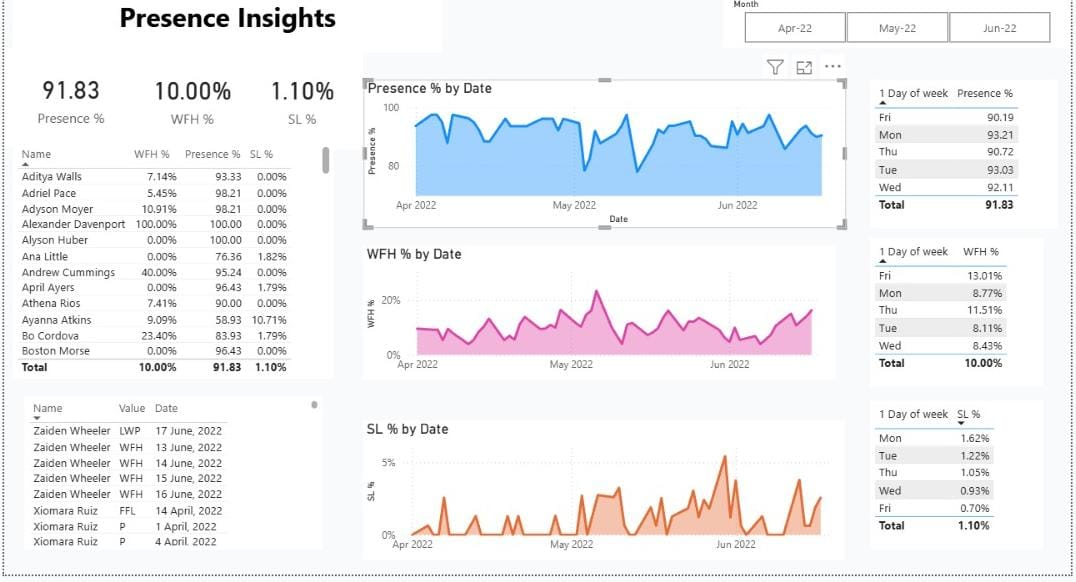

The dashboard page shown, as its layout file describes it:
{"tool":"powerbi","page":{"name":"Page 1","canvas":[1280,720],"ordinal":0},"visuals":[{"type":"card","fields":{"Values":["Measure Table.SL %"]},"box":[285.4,86.4,145.5,123.5],"z":0},{"type":"card","fields":{"Values":["Measure Table.Presence %"]},"box":[0,87.8,160.5,119.4],"z":1000},{"type":"slicer","fields":{"Values":["Final Data.Month"]},"box":[863.1,23.3,417.2,64.5],"z":2000},{"type":"card","fields":{"Values":["Measure Table.WFH %"]},"box":[159.2,93.3,134.5,108.4],"z":3000},{"type":"tableEx","fields":{"Values":["Final Data.Name","Final Data.Value","Final Data.Date"]},"box":[23.3,506.3,358.1,183.9],"z":4000},{"type":"textbox","box":[9.6,23.3,516,70],"z":5000},{"type":"tableEx","fields":{"Values":["Final Data.Name","Measure Table.WFH %","Measure Table.Presence %","Measure Table.SL %"]},"box":[9.6,201.7,385.6,284],"z":6000},{"type":"areaChart","fields":{"Category":["Final Data.Date"],"Y":["Measure Table.Presence %"]},"box":[430.9,126.2,579.1,178.4],"z":7000},{"type":"areaChart","fields":{"Category":["Final Data.Date"],"Y":["Measure Table.WFH %"]},"box":[430.6,324.4,568,161.6],"z":8000},{"type":"areaChart","fields":{"Category":["Final Data.Date"],"Y":["Measure Table.SL %"]},"box":[430.6,535.5,578.9,167.6],"z":9000},{"type":"tableEx","fields":{"Values":["Final Data.1 Day of week","Measure Table.Presence %"]},"box":[1038.4,126.6,225.5,178.5],"z":10000},{"type":"tableEx","fields":{"Values":["Final Data.1 Day of week","Measure Table.WFH %"]},"box":[1038.4,316,208.6,178.5],"z":11000},{"type":"tableEx","fields":{"Values":["Final Data.1 Day of week","Measure Table.SL %"]},"box":[1038.4,511.4,208.6,178.5],"z":12000}]}

Visuals, with their boxes on the page's 1280x720 design canvas (x1, y1, x2, y2). These are canvas units, not pixel positions in the 1076x582 screenshot, which may show the page scaled, cropped or inside an application window:
card - Measure Table.SL %: 285, 86, 431, 210
card - Measure Table.Presence %: 0, 88, 160, 207
slicer - Final Data.Month: 863, 23, 1280, 88
card - Measure Table.WFH %: 159, 93, 294, 202
tableEx - Final Data.Name x Final Data.Value: 23, 506, 381, 690
textbox: 10, 23, 526, 93
tableEx - Final Data.Name x Measure Table.WFH %: 10, 202, 395, 486
areaChart - Final Data.Date x Measure Table.Presence %: 431, 126, 1010, 305
areaChart - Final Data.Date x Measure Table.WFH %: 431, 324, 999, 486
areaChart - Final Data.Date x Measure Table.SL %: 431, 536, 1010, 703
tableEx - Final Data.1 Day of week x Measure Table.Presence %: 1038, 127, 1264, 305
tableEx - Final Data.1 Day of week x Measure Table.WFH %: 1038, 316, 1247, 494
tableEx - Final Data.1 Day of week x Measure Table.SL %: 1038, 511, 1247, 690
